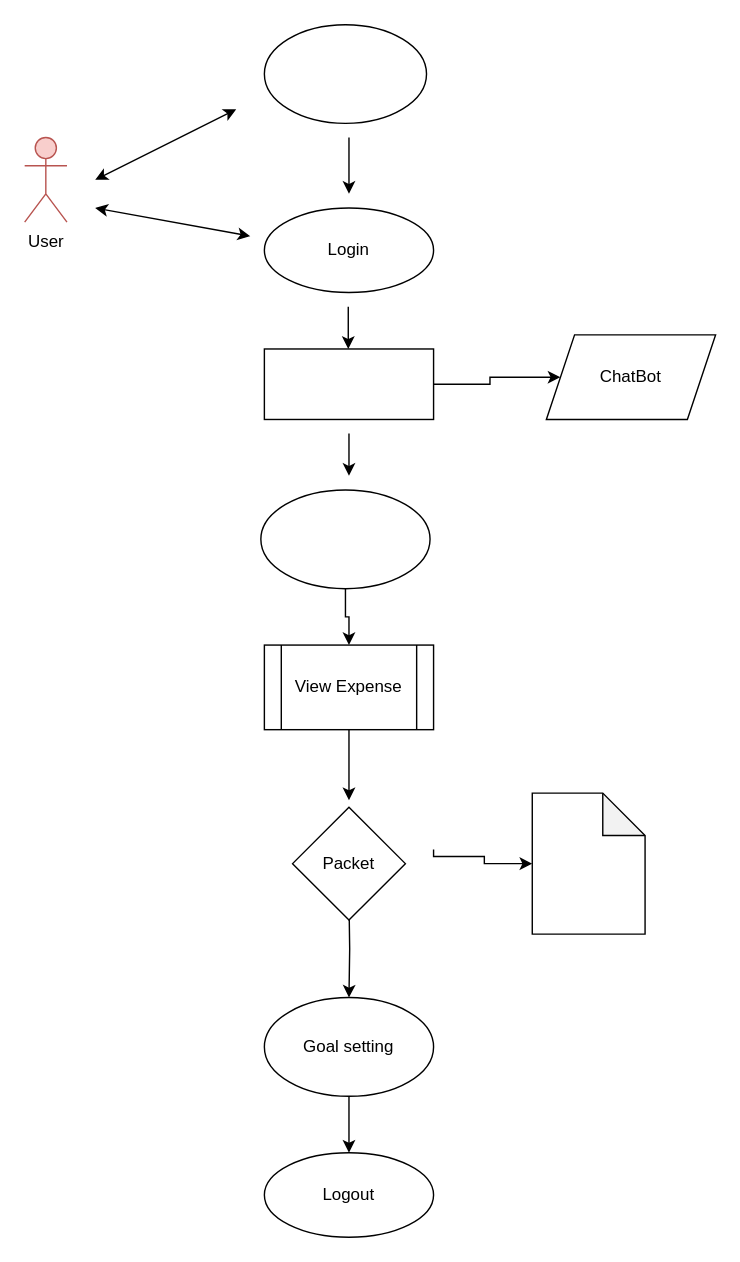
The diagram is 740 pixels wide and 1262 high, and some of its shapes have lost their labels. The centre of each missing label's shape, as x and y in pixels:
Add Expense: the point at 344,539
Home: the point at 348,383
Register: the point at 345,73
Report: the point at 588,863
